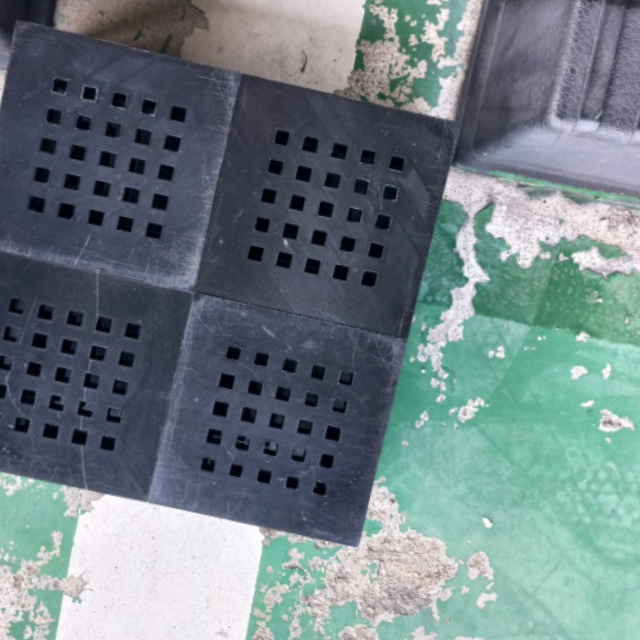pallet: (0, 22, 464, 561)
